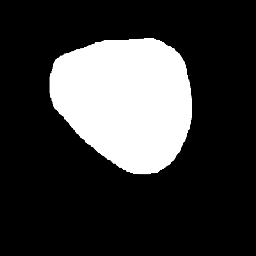mass: (43, 28, 190, 165)
